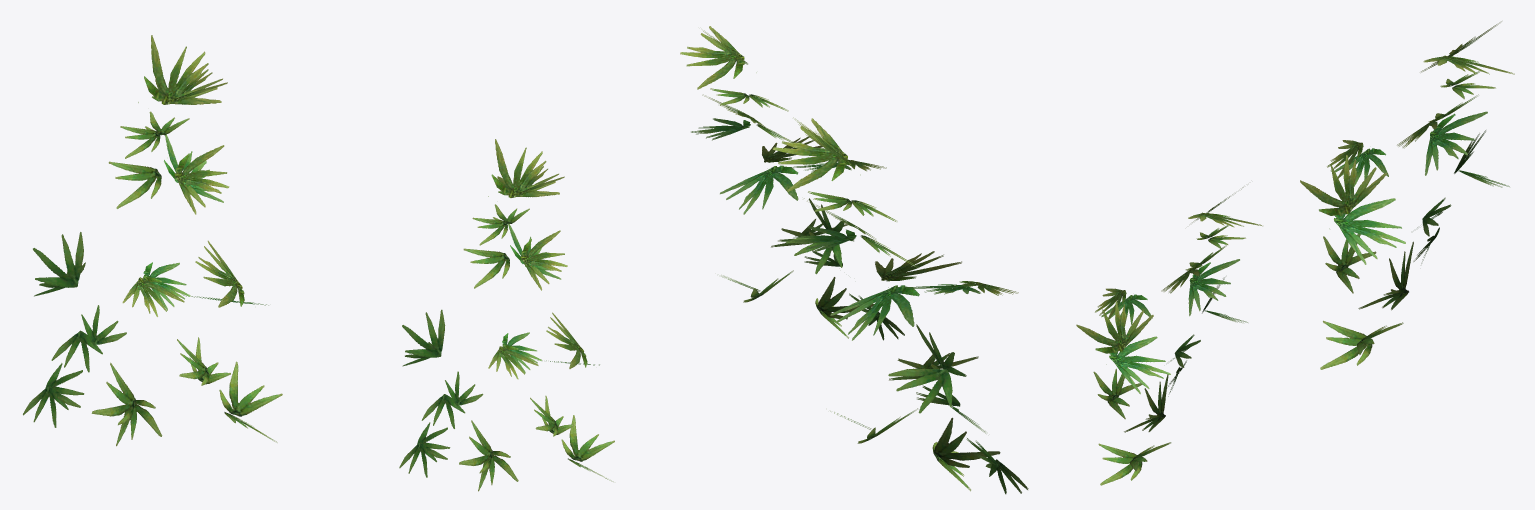
The model's file is Area_12_13.fbx.
3 views of the same model, side by side, from view 1: azimuth 30°, elevation 25°; view 2: azimuth 150°, elevation 25°; view 3: azimuth 270°, elevation 25° (orthographic). The views are drawn at different scales.
Visible parts, largest first — view 1: Area_12_13; view 2: Area_12_13; view 3: Area_12_13.
Part boxes in pixels (box(x1,y1,x2,y2)): Area_12_13: box(23, 35, 614, 491); Area_12_13: box(680, 26, 1028, 494); Area_12_13: box(1076, 21, 1514, 485).
Size of the model in its own units: 2210 by 1787 by 2026.
